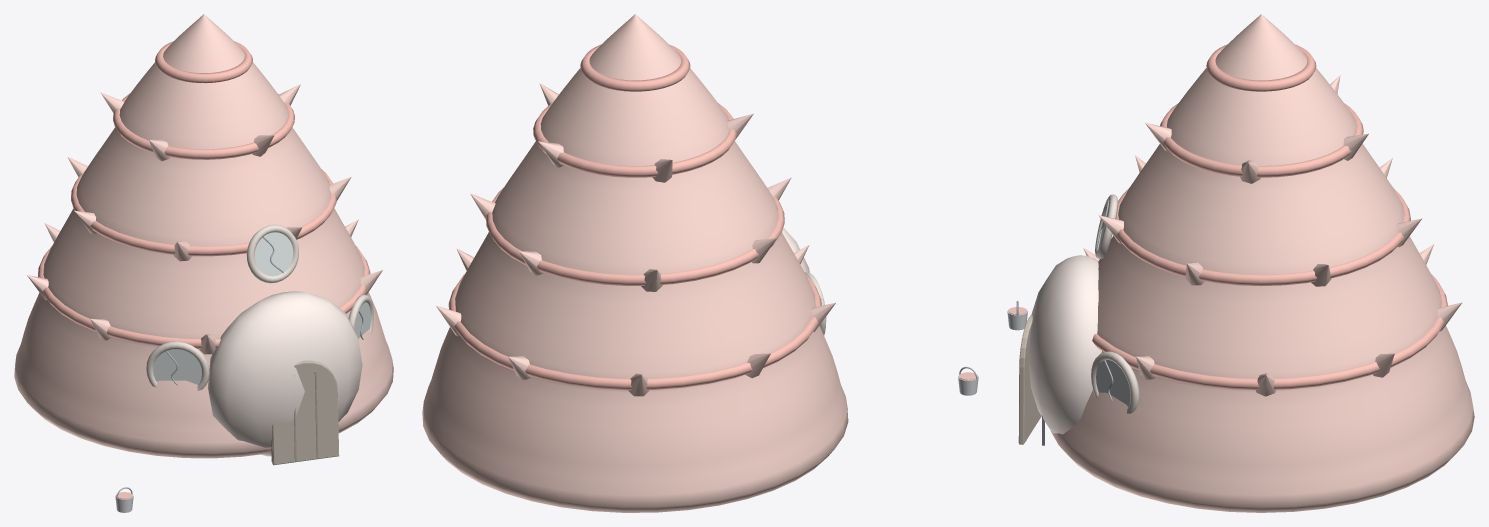
Rendered from building_ocean_L04.glb.
The picture shows the model from 3 angles, left to right: view 1: azimuth 30°, elevation 25°; view 2: azimuth 150°, elevation 25°; view 3: azimuth 270°, elevation 25°; orthographic projection. The views are drawn at different scales.
Visible parts, largest first — view 1: Body; view 2: Body; view 3: Body.
Boxes of the visible parts, x1=… form: Body: x1=14, y1=14, x2=393, y2=465; Body: x1=422, y1=14, x2=848, y2=512; Body: x1=1018, y1=14, x2=1474, y2=512.
Size of the model in its own units: 16.31 by 16.4 by 16.3.
